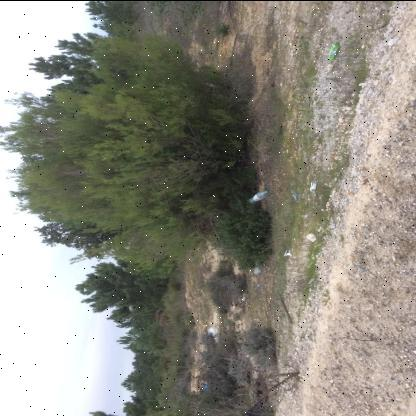cardboard: (328, 43, 339, 59)
plastic: (248, 190, 268, 204)
